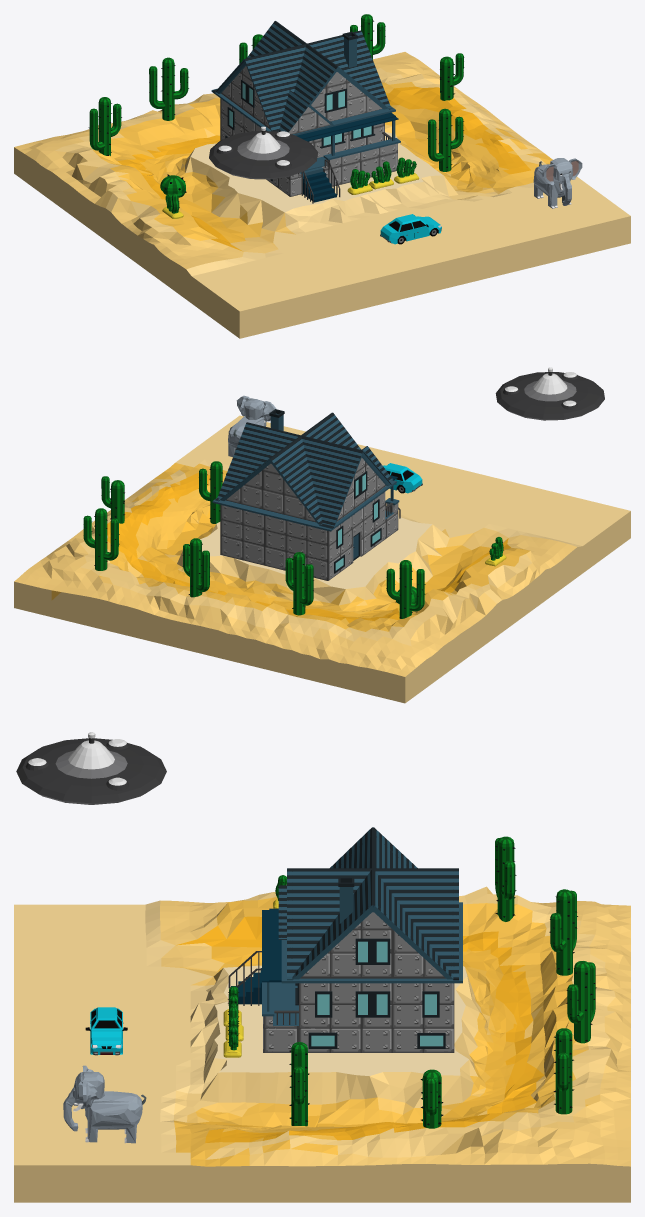
3 renders of one model, top to bottom at view 1: azimuth 30°, elevation 25°; view 2: azimuth 150°, elevation 25°; view 3: azimuth 270°, elevation 25°, orthographic. The views are drawn at different scales.
Visible parts, largest first — view 1: Cube.001, Cube.078, OBJRANDOM_UFO, ANIMAL_ELEFANTE, Cylinder.044, Cylinder.037, Cylinder.045, VEHICLES_CAR, Cylinder.038, Cylinder.042, Cylinder.041, Cylinder.039 (+1 smaller); view 2: Cube.001, Cube.078, OBJRANDOM_UFO, Cylinder.042, Cylinder.045, Cylinder.044, Cylinder.043, ANIMAL_ELEFANTE, Cylinder.037, Cylinder.038, VEHICLES_CAR; view 3: Cube.001, Cube.078, OBJRANDOM_UFO, ANIMAL_ELEFANTE, Cylinder.043, Cylinder.044, Cylinder.045, VEHICLES_CAR, Cylinder.042, Cylinder.037, Cylinder.038.
Part boxes in pixels (bbox=[...]): Cube.001: bbox=[14, 52, 630, 338]; Cube.078: bbox=[211, 21, 400, 203]; OBJRANDOM_UFO: bbox=[209, 126, 318, 179]; ANIMAL_ELEFANTE: bbox=[533, 158, 582, 208]; Cylinder.044: bbox=[149, 57, 188, 120]; Cylinder.037: bbox=[427, 108, 463, 171]; Cylinder.045: bbox=[88, 97, 121, 155]; VEHICLES_CAR: bbox=[380, 214, 441, 244]; Cylinder.038: bbox=[440, 53, 464, 100]; Cylinder.042: bbox=[350, 14, 385, 59]; Cylinder.041: bbox=[394, 157, 419, 183]; Cylinder.039: bbox=[347, 169, 372, 194]; Cube.001: bbox=[14, 415, 630, 703]; Cube.078: bbox=[212, 409, 400, 580]; OBJRANDOM_UFO: bbox=[495, 367, 604, 420]; Cylinder.042: bbox=[83, 508, 119, 570]; Cylinder.045: bbox=[386, 560, 425, 618]; Cylinder.044: bbox=[285, 552, 313, 615]; Cylinder.043: bbox=[182, 538, 209, 597]; ANIMAL_ELEFANTE: bbox=[228, 395, 276, 456]; Cylinder.037: bbox=[199, 461, 226, 523]; Cylinder.038: bbox=[101, 476, 124, 523]; VEHICLES_CAR: bbox=[383, 463, 422, 493]; Cube.001: bbox=[14, 886, 630, 1202]; Cube.078: bbox=[228, 827, 462, 1052]; OBJRANDOM_UFO: bbox=[16, 732, 166, 804]; ANIMAL_ELEFANTE: bbox=[63, 1065, 146, 1143]; Cylinder.043: bbox=[566, 961, 596, 1043]; Cylinder.044: bbox=[549, 889, 577, 975]; Cylinder.045: bbox=[495, 836, 516, 921]; VEHICLES_CAR: bbox=[85, 1007, 127, 1055]; Cylinder.042: bbox=[553, 1028, 574, 1114]; Cylinder.037: bbox=[289, 1042, 309, 1126]; Cylinder.038: bbox=[420, 1069, 443, 1128].
Bounding box in the file's own units: 4002 × 1796 × 4001.
Materials: 32 (4 with a texture image).
